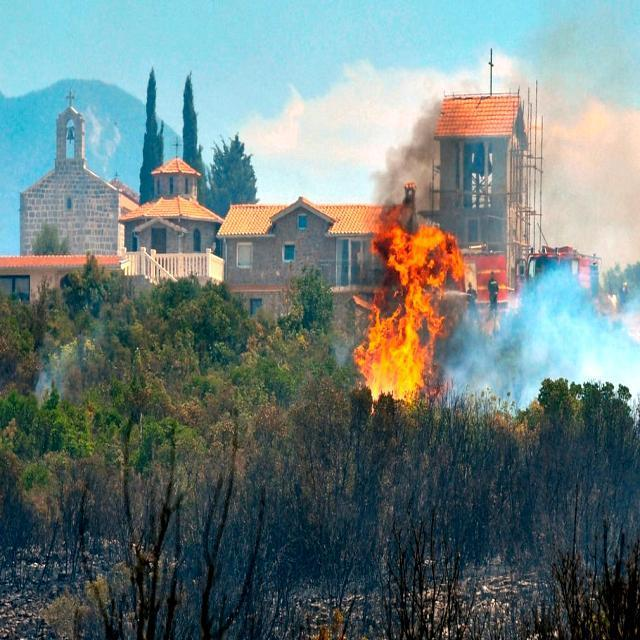Fire: (354, 210, 474, 416)
Smoke: (453, 245, 640, 425), (523, 50, 640, 278)
